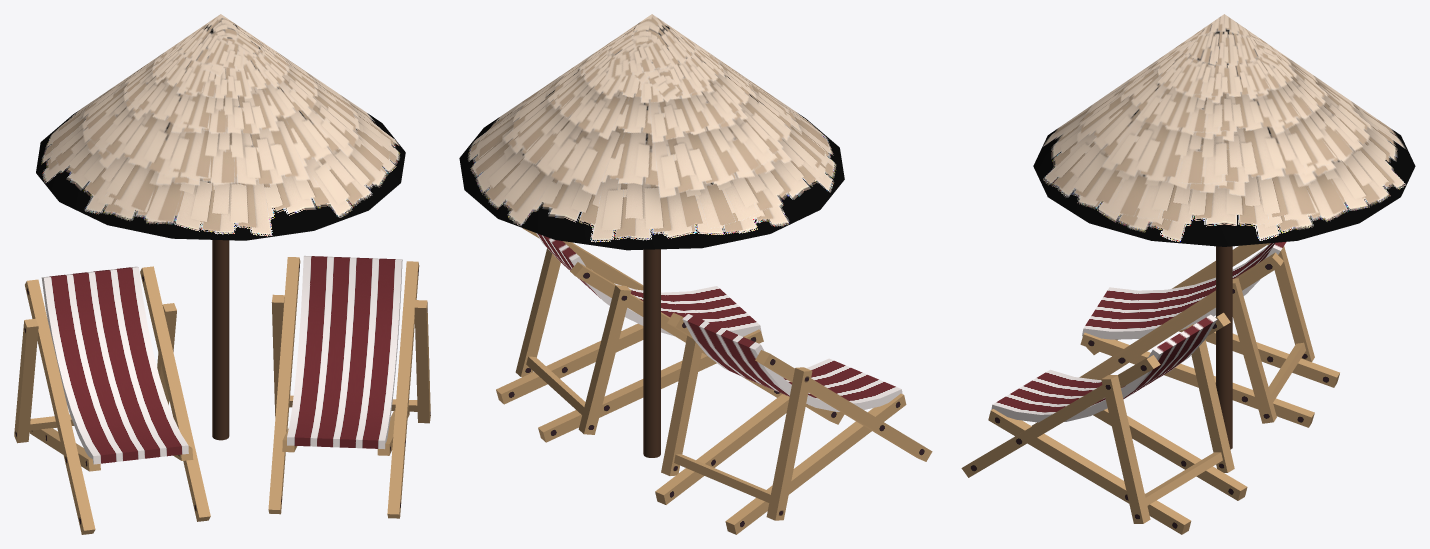
File: Umbrella and chairs.glb
The picture shows the model from 3 angles, left to right: view 1: azimuth 30°, elevation 25°; view 2: azimuth 150°, elevation 25°; view 3: azimuth 270°, elevation 25°; orthographic projection. The views are drawn at different scales.
Visible parts, largest first — view 1: Beach_Umbrella, Beach_Chair, Beach_Chair1; view 2: Beach_Umbrella, Beach_Chair, Beach_Chair1; view 3: Beach_Umbrella, Beach_Chair1, Beach_Chair.
Part boxes in pixels (x1,y1,x2,y2): Beach_Umbrella: (36,14,405,440); Beach_Chair: (14,266,210,534); Beach_Chair1: (268,255,430,518); Beach_Umbrella: (459,14,844,457); Beach_Chair: (655,313,932,534); Beach_Chair1: (496,228,782,442); Beach_Umbrella: (1033,14,1415,449); Beach_Chair1: (961,312,1247,534); Beach_Chair: (1079,242,1339,427).
Bounding box in the file's own units: 361 × 394 × 371.
2 materials, 2 textured.
